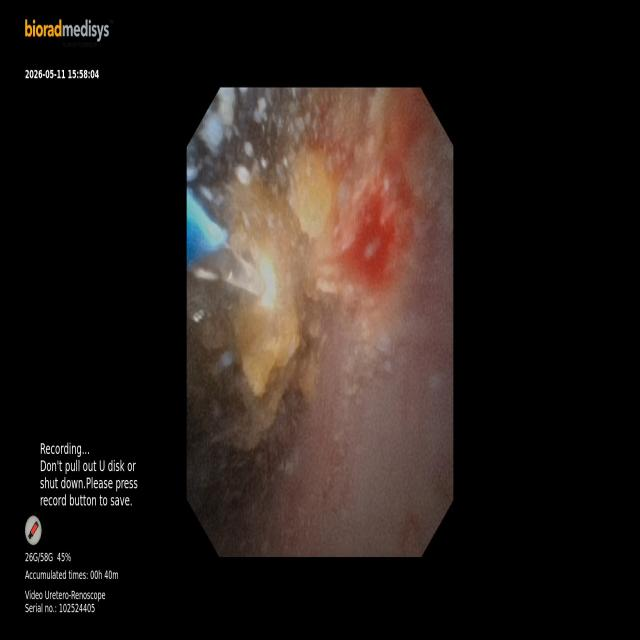laser-fibre: (192, 245, 262, 294)
laser_dot: (259, 256, 276, 308)
stone-new: (230, 180, 305, 448), (291, 151, 336, 238)
